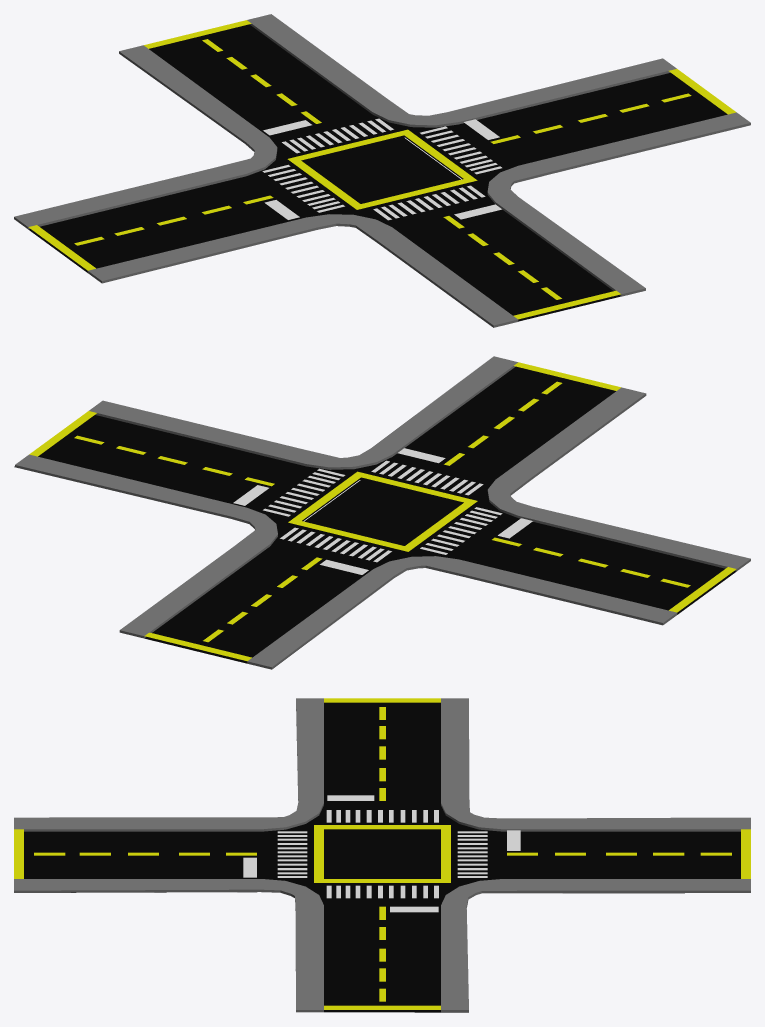
File: Final Intersection.fbx
3 renders of one model, top to bottom at view 1: azimuth 30°, elevation 25°; view 2: azimuth 150°, elevation 25°; view 3: azimuth 270°, elevation 25°, orthographic.
Visible parts, largest first — view 1: Intersection_Fianl; view 2: Intersection_Fianl; view 3: Intersection_Fianl.
Boxes of the visible parts, <box> form: Intersection_Fianl: <box>14,14,750,327</box>; Intersection_Fianl: <box>14,356,750,669</box>; Intersection_Fianl: <box>14,698,750,1012</box>.
Bounding box in the file's own units: 52.8 × 0.1978 × 52.72.
